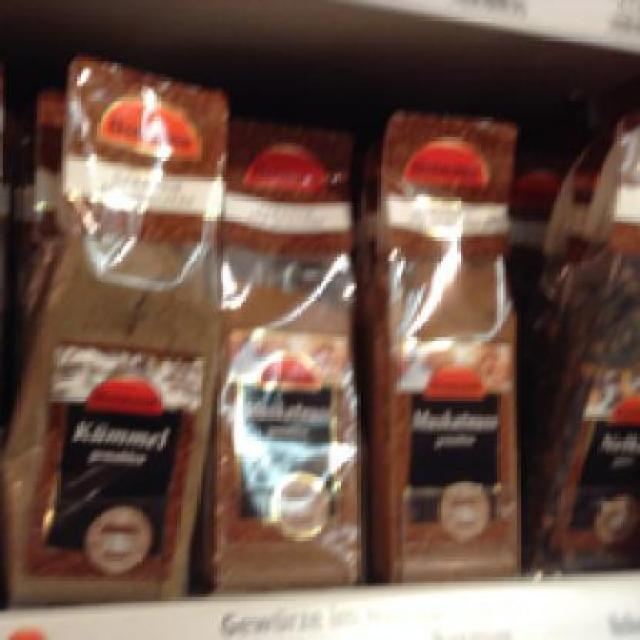Spices: (0, 51, 226, 594), (371, 102, 526, 578), (212, 120, 368, 589)
